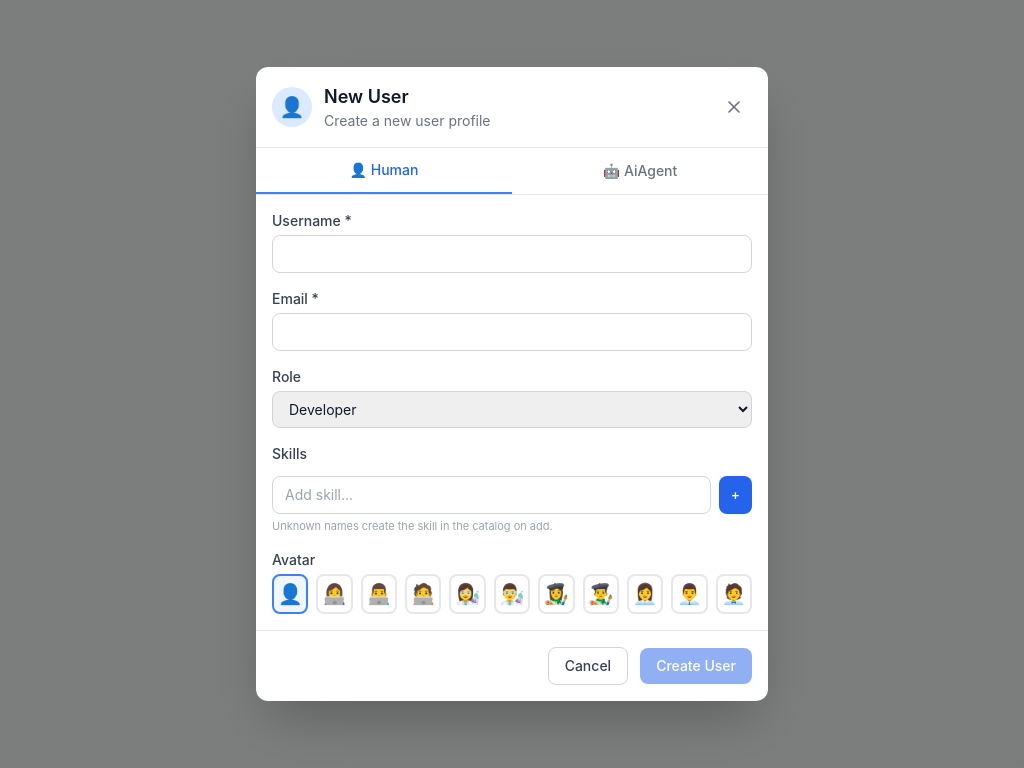
Scenario: CreateUserModal › switches to agent mode without closing the modal (regression: @ in i18n placeholder)
Click the button "🤖 AiAgent": x=640, y=171 [512,148,768,194]
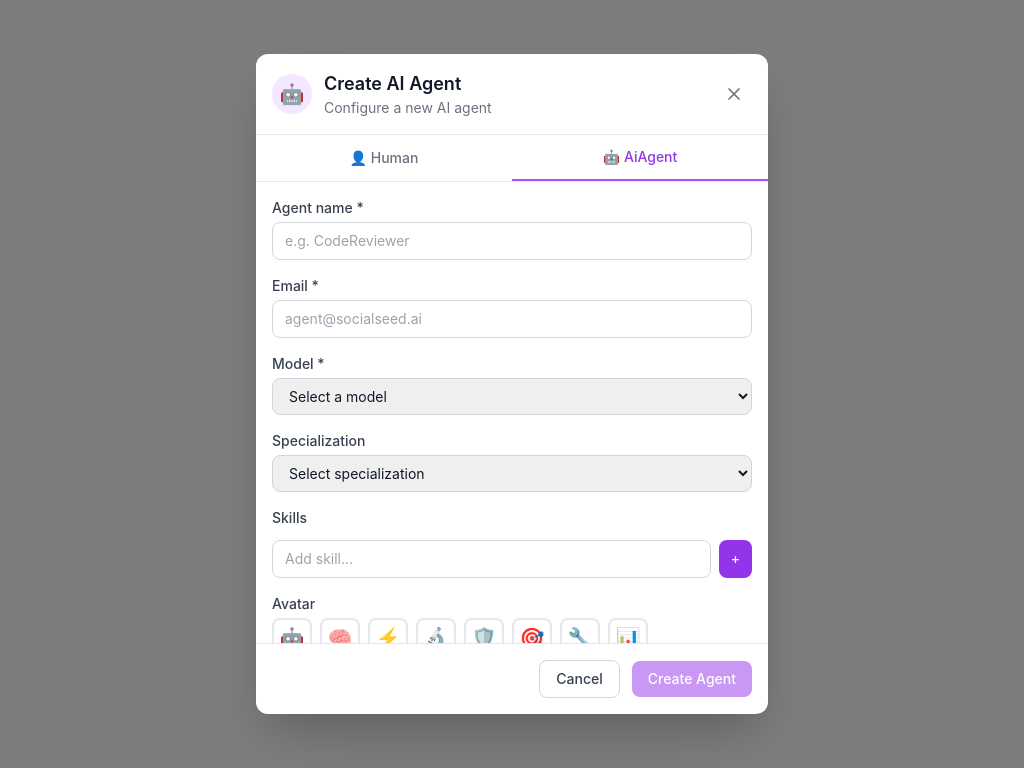
Now the heading "Create AI Agent" is shown, box [324,73,461,94]
